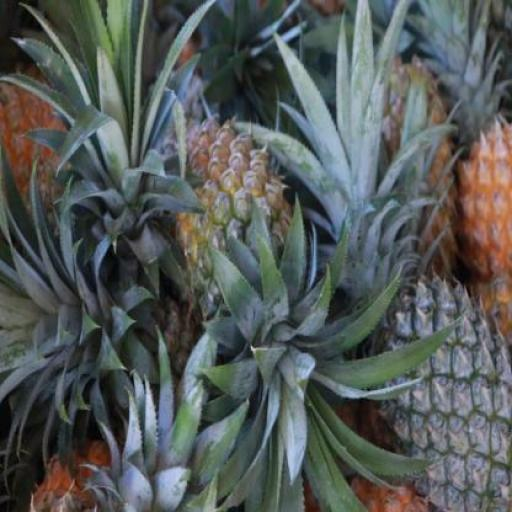------------------------------: (162, 118, 302, 328)
